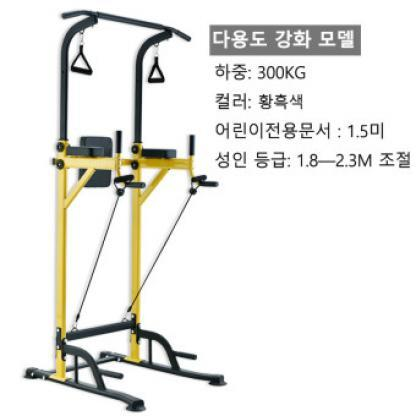chinning dipping: (22, 9, 210, 413)
